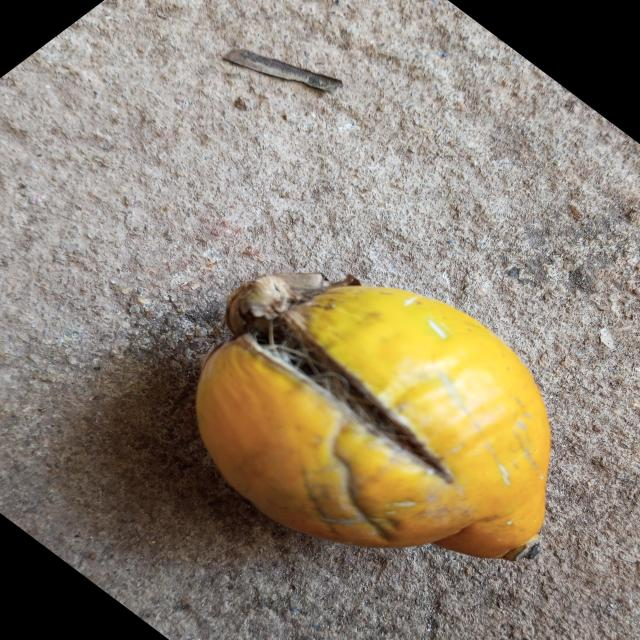damaged: (193, 274, 552, 563)
